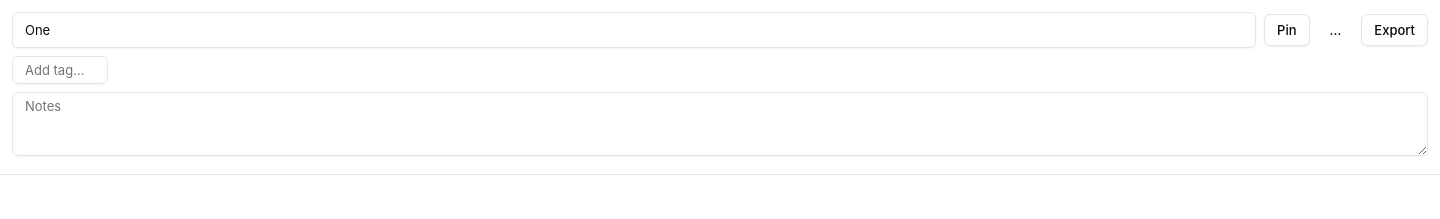
Test: shows failed metadata writes and keeps a rejected tag draft
Type "team" into the field labelled "Add tag".
click(60, 70); type("team")  # box [12, 56, 108, 84]
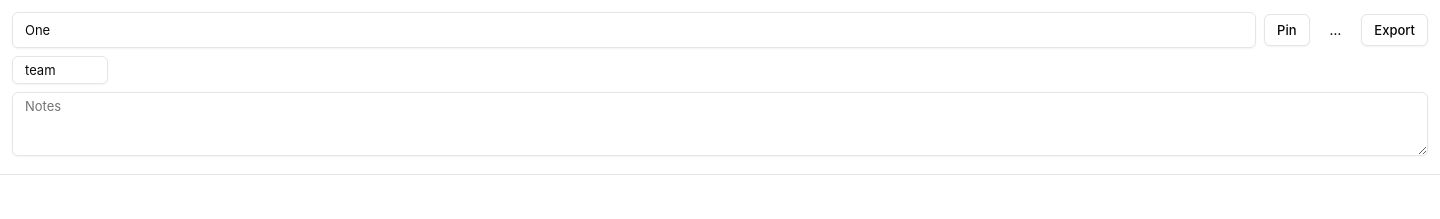
Press Enter in the field named "Add tag", box [12, 56, 108, 84]
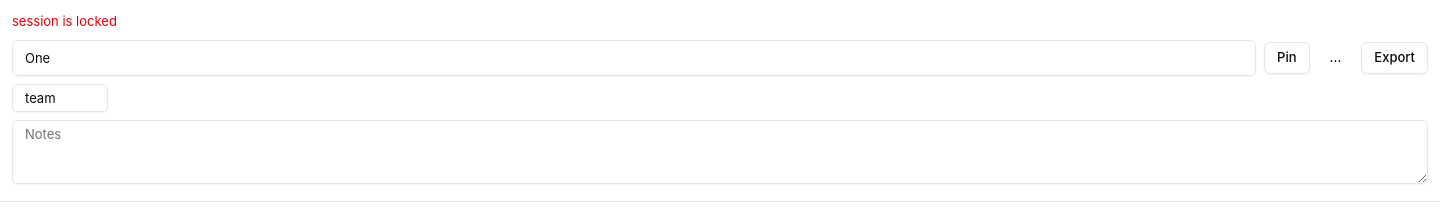
Expected: the message reads "session is locked", [12, 13, 117, 29]
